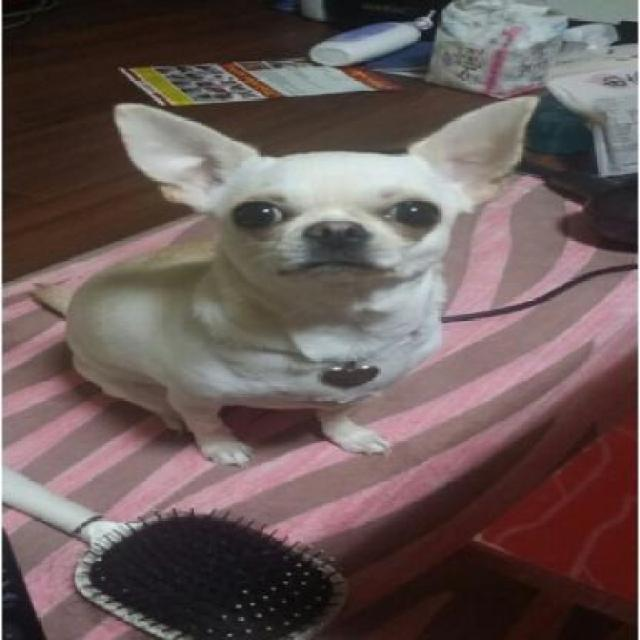Dog: (31, 94, 542, 471)
